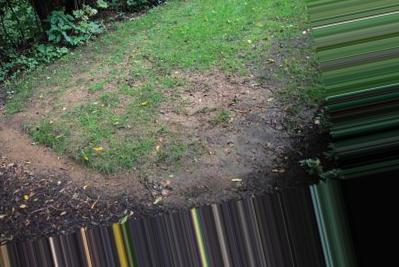patch: (124, 131, 204, 181), (160, 75, 231, 122), (19, 120, 75, 173), (254, 72, 296, 128), (224, 137, 265, 173), (69, 75, 102, 106), (115, 56, 156, 74), (114, 92, 134, 117)
